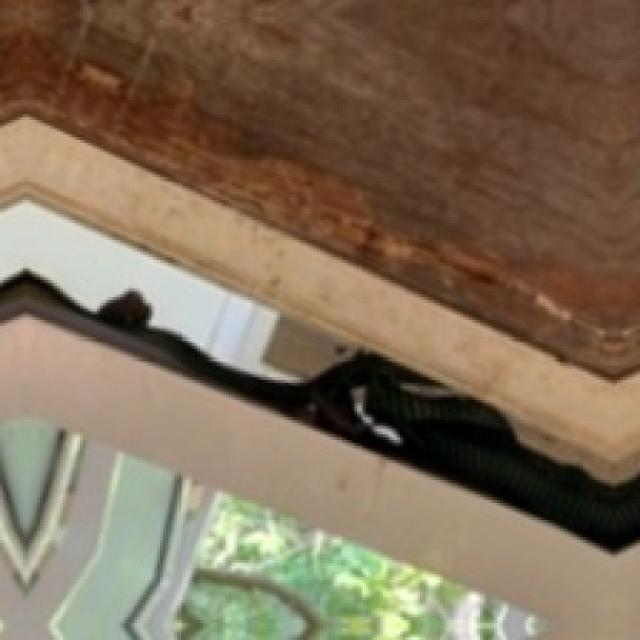paradise tree snake: (0, 277, 637, 546), (97, 291, 637, 546)
